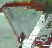Give way: (1, 1, 48, 47)
